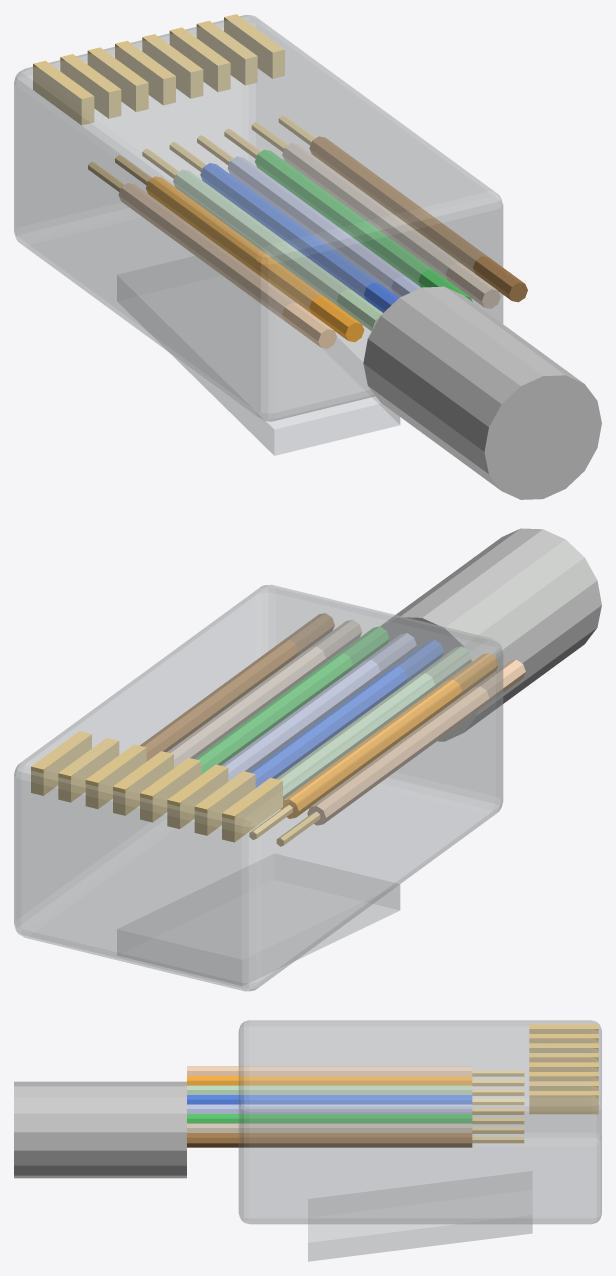
File: cable_rj45_plug_bad_crimp.glb
The picture shows the model from 3 angles, top to bottom: view 1: azimuth 30°, elevation 25°; view 2: azimuth 150°, elevation 25°; view 3: azimuth 270°, elevation 25°; orthographic projection. The views are drawn at different scales.
Visible parts, largest first — view 1: plug_body, variant_bad_crimp_mesh, latch; view 2: plug_body, variant_bad_crimp_mesh, latch; view 3: plug_body, variant_bad_crimp_mesh, latch.
Boxes of the visible parts, bbox=[...] form: plug_body: bbox=[14, 14, 503, 421]; variant_bad_crimp_mesh: bbox=[88, 115, 601, 499]; latch: bbox=[117, 256, 400, 455]; plug_body: bbox=[14, 584, 503, 991]; variant_bad_crimp_mesh: bbox=[140, 528, 601, 846]; latch: bbox=[117, 854, 400, 985]; plug_body: bbox=[238, 1020, 601, 1224]; variant_bad_crimp_mesh: bbox=[14, 1066, 524, 1178]; latch: bbox=[308, 1171, 532, 1261].
Size of the model in its own units: 0.0117 by 0.0115 by 0.034.
